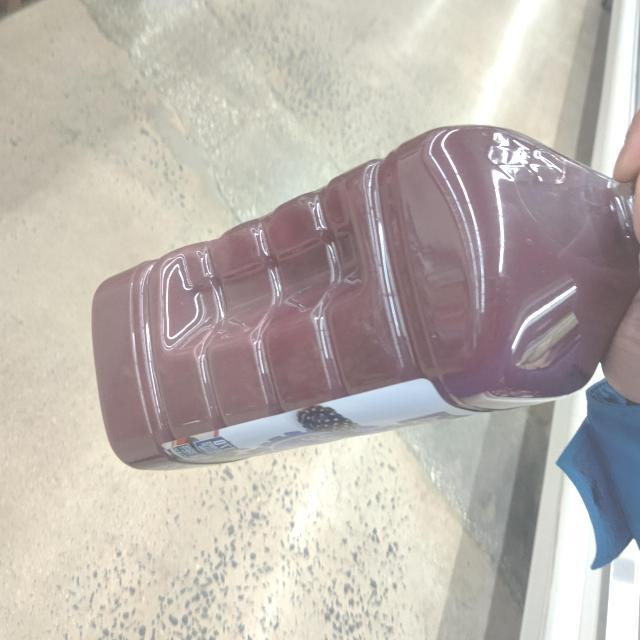Juice: (65, 105, 640, 483)
